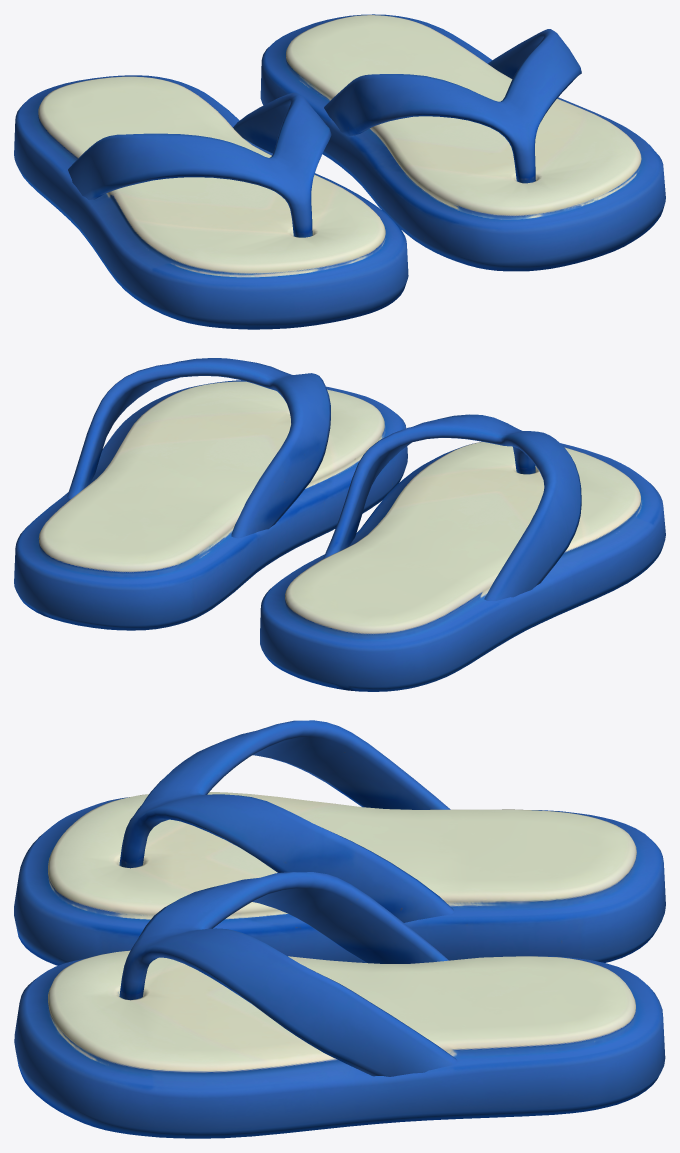
File: naia-sandals.fbx
3 views of the same model, one above another, from view 1: azimuth 30°, elevation 25°; view 2: azimuth 150°, elevation 25°; view 3: azimuth 270°, elevation 25° (orthographic). The views are drawn at different scales.
Parts seen in each view (by area): view 1: tripo_node_46db9f9d-554b-45b6-9357-e00d9876c574; view 2: tripo_node_46db9f9d-554b-45b6-9357-e00d9876c574; view 3: tripo_node_46db9f9d-554b-45b6-9357-e00d9876c574.
Part boxes in pixels (x1=…): tripo_node_46db9f9d-554b-45b6-9357-e00d9876c574: x1=14, y1=14, x2=665, y2=329; tripo_node_46db9f9d-554b-45b6-9357-e00d9876c574: x1=14, y1=358, x2=665, y2=691; tripo_node_46db9f9d-554b-45b6-9357-e00d9876c574: x1=14, y1=720, x2=665, y2=1138.
Size of the model in its own units: 0.9995 by 0.2358 by 0.9175.
1 material, 1 textured.
